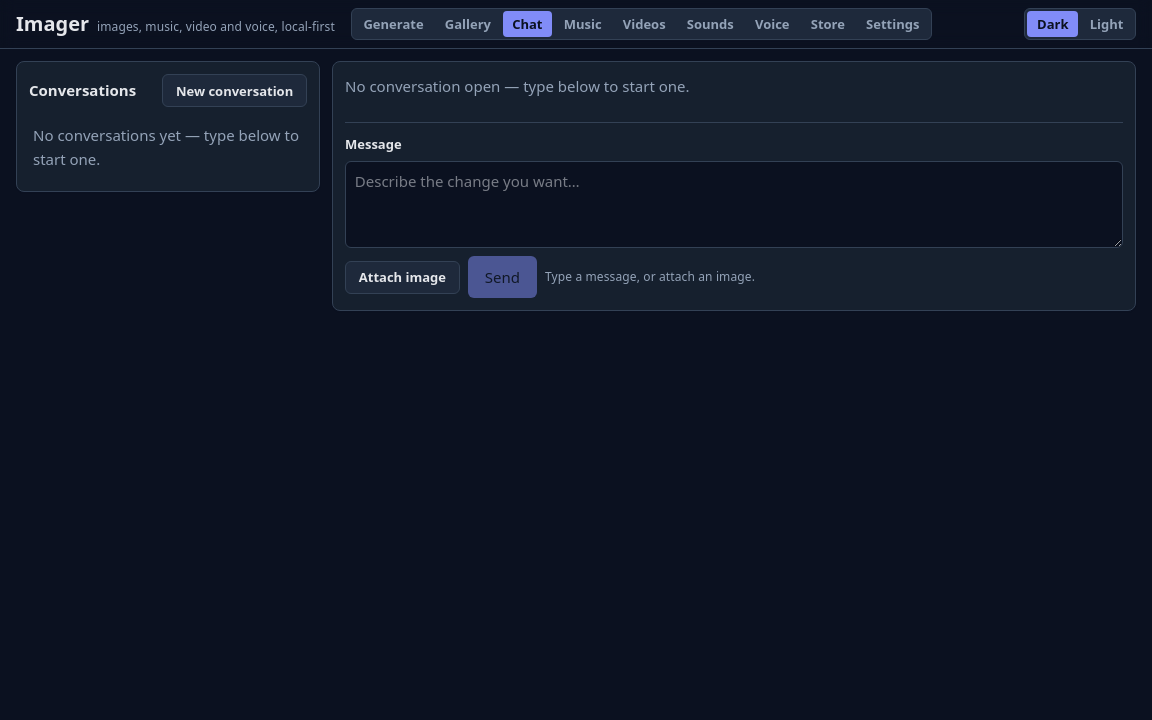
Scenario: the SECOND turn carries the first user text AND the first image, re-encoded to the reference cap
The width and height of the screenshot is (1152, 720).
Type "make the sky darker" into the text box labelled "Message" at (734, 205), box left=345, top=161, right=1123, bottom=248
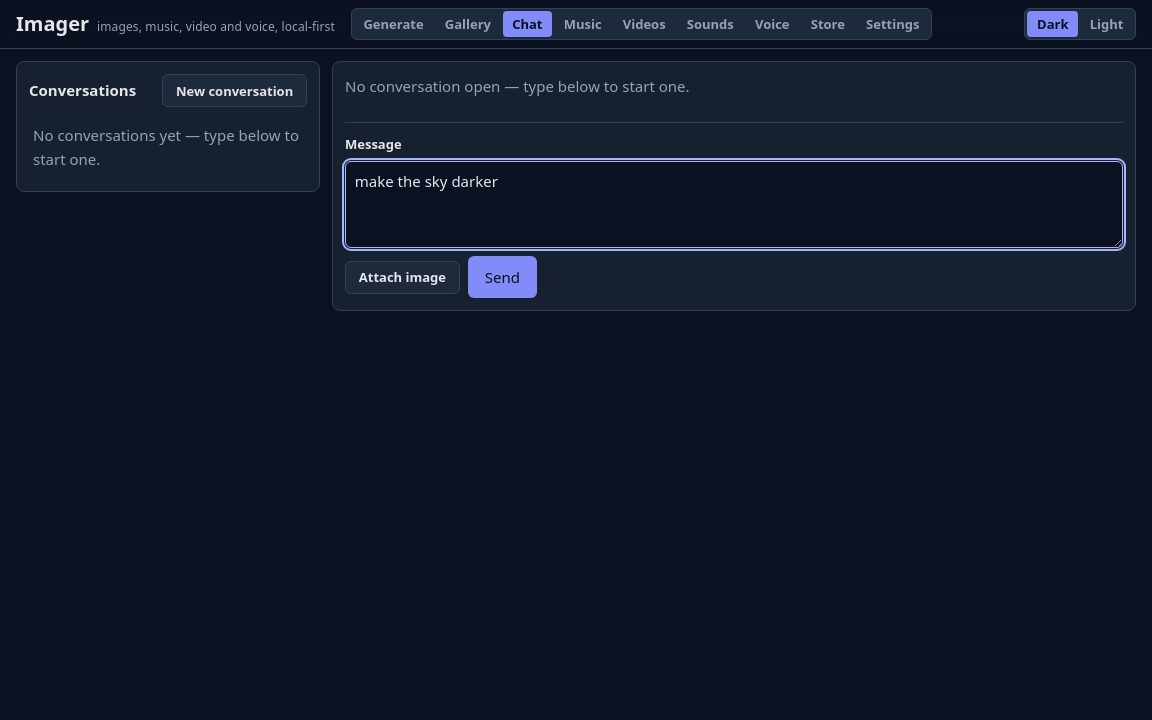
Click the button "Send" at (502, 277), box left=468, top=256, right=537, bottom=298
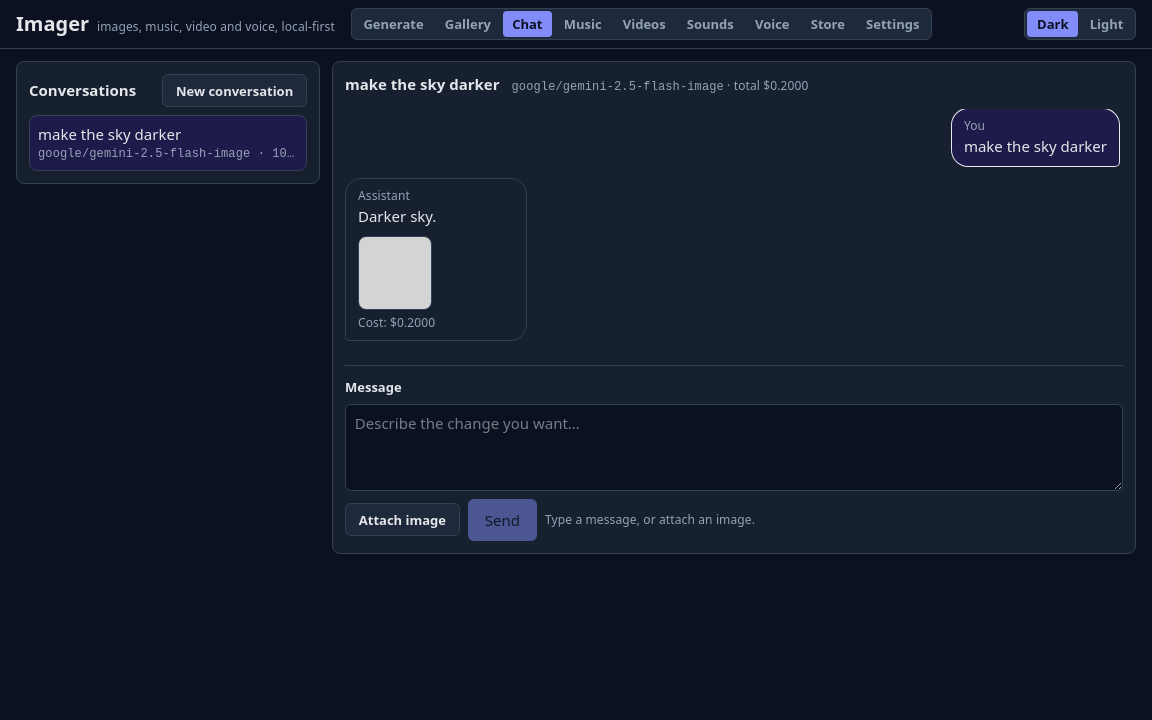
Result: the text "Darker sky." is shown at left=358, top=206, right=436, bottom=226
Type "now add rain" into the text box labelled "Message" at (734, 447), box left=345, top=404, right=1123, bottom=491
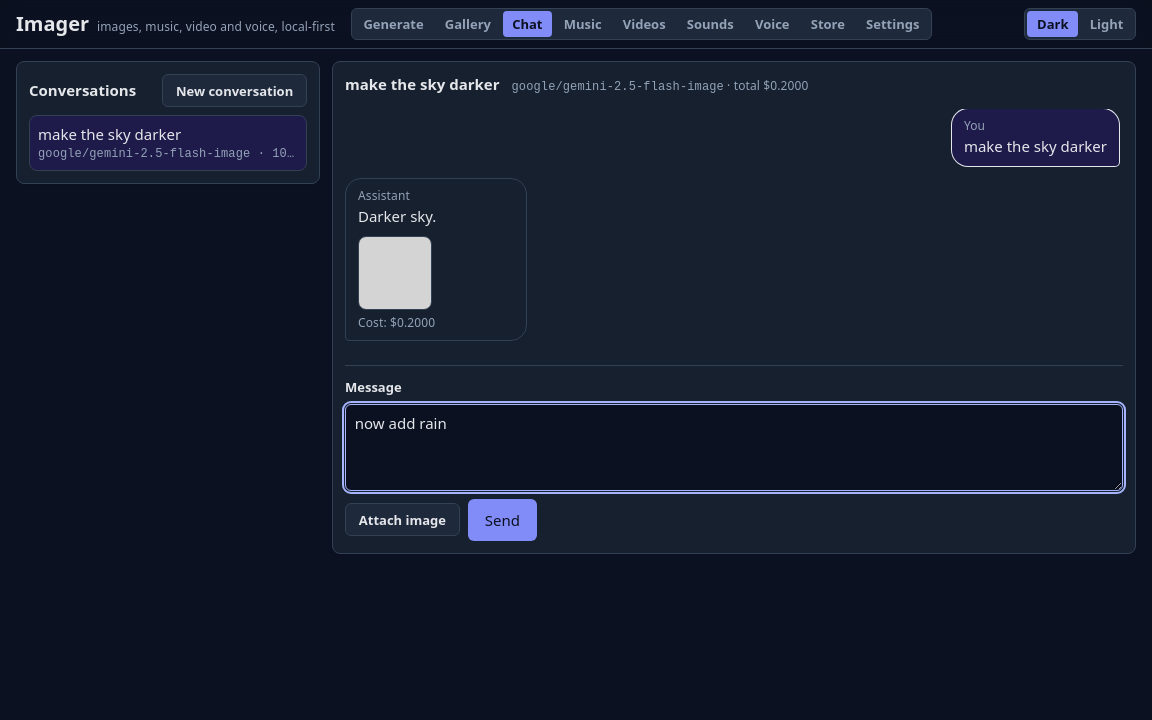
Click the button "Send" at (502, 520), box left=468, top=499, right=537, bottom=541
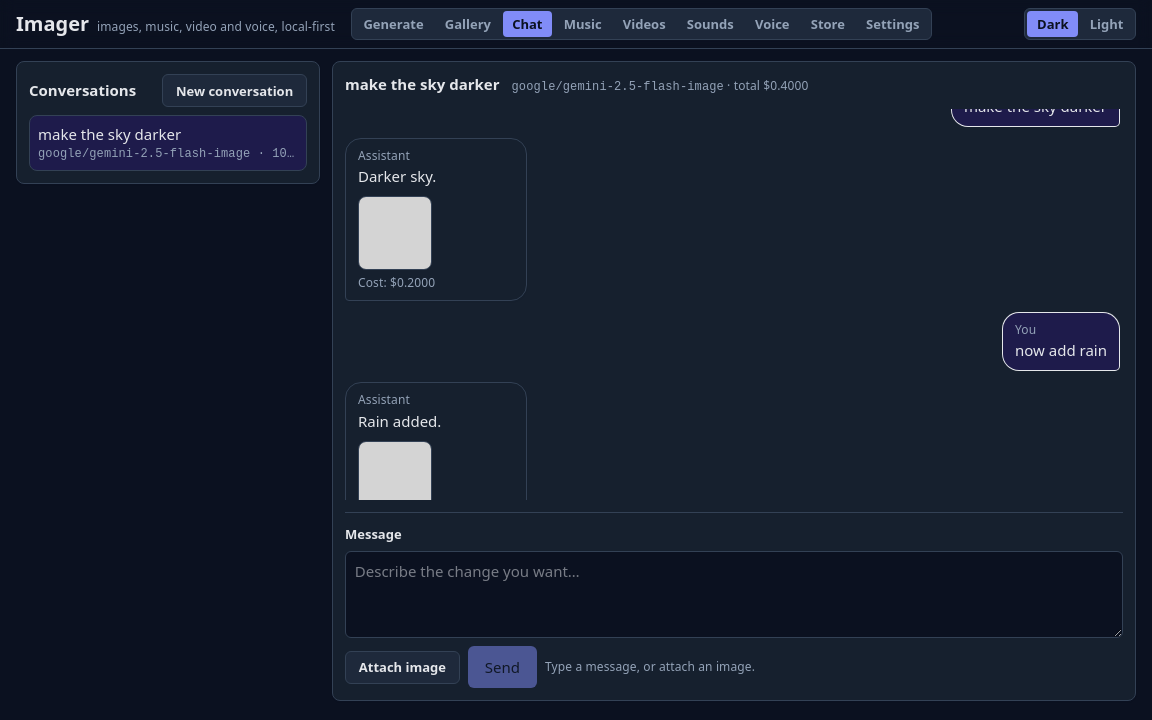
Result: the text "Darker sky." is shown at left=358, top=166, right=436, bottom=186
Result: the text "Rain added." is shown at left=358, top=410, right=441, bottom=430
